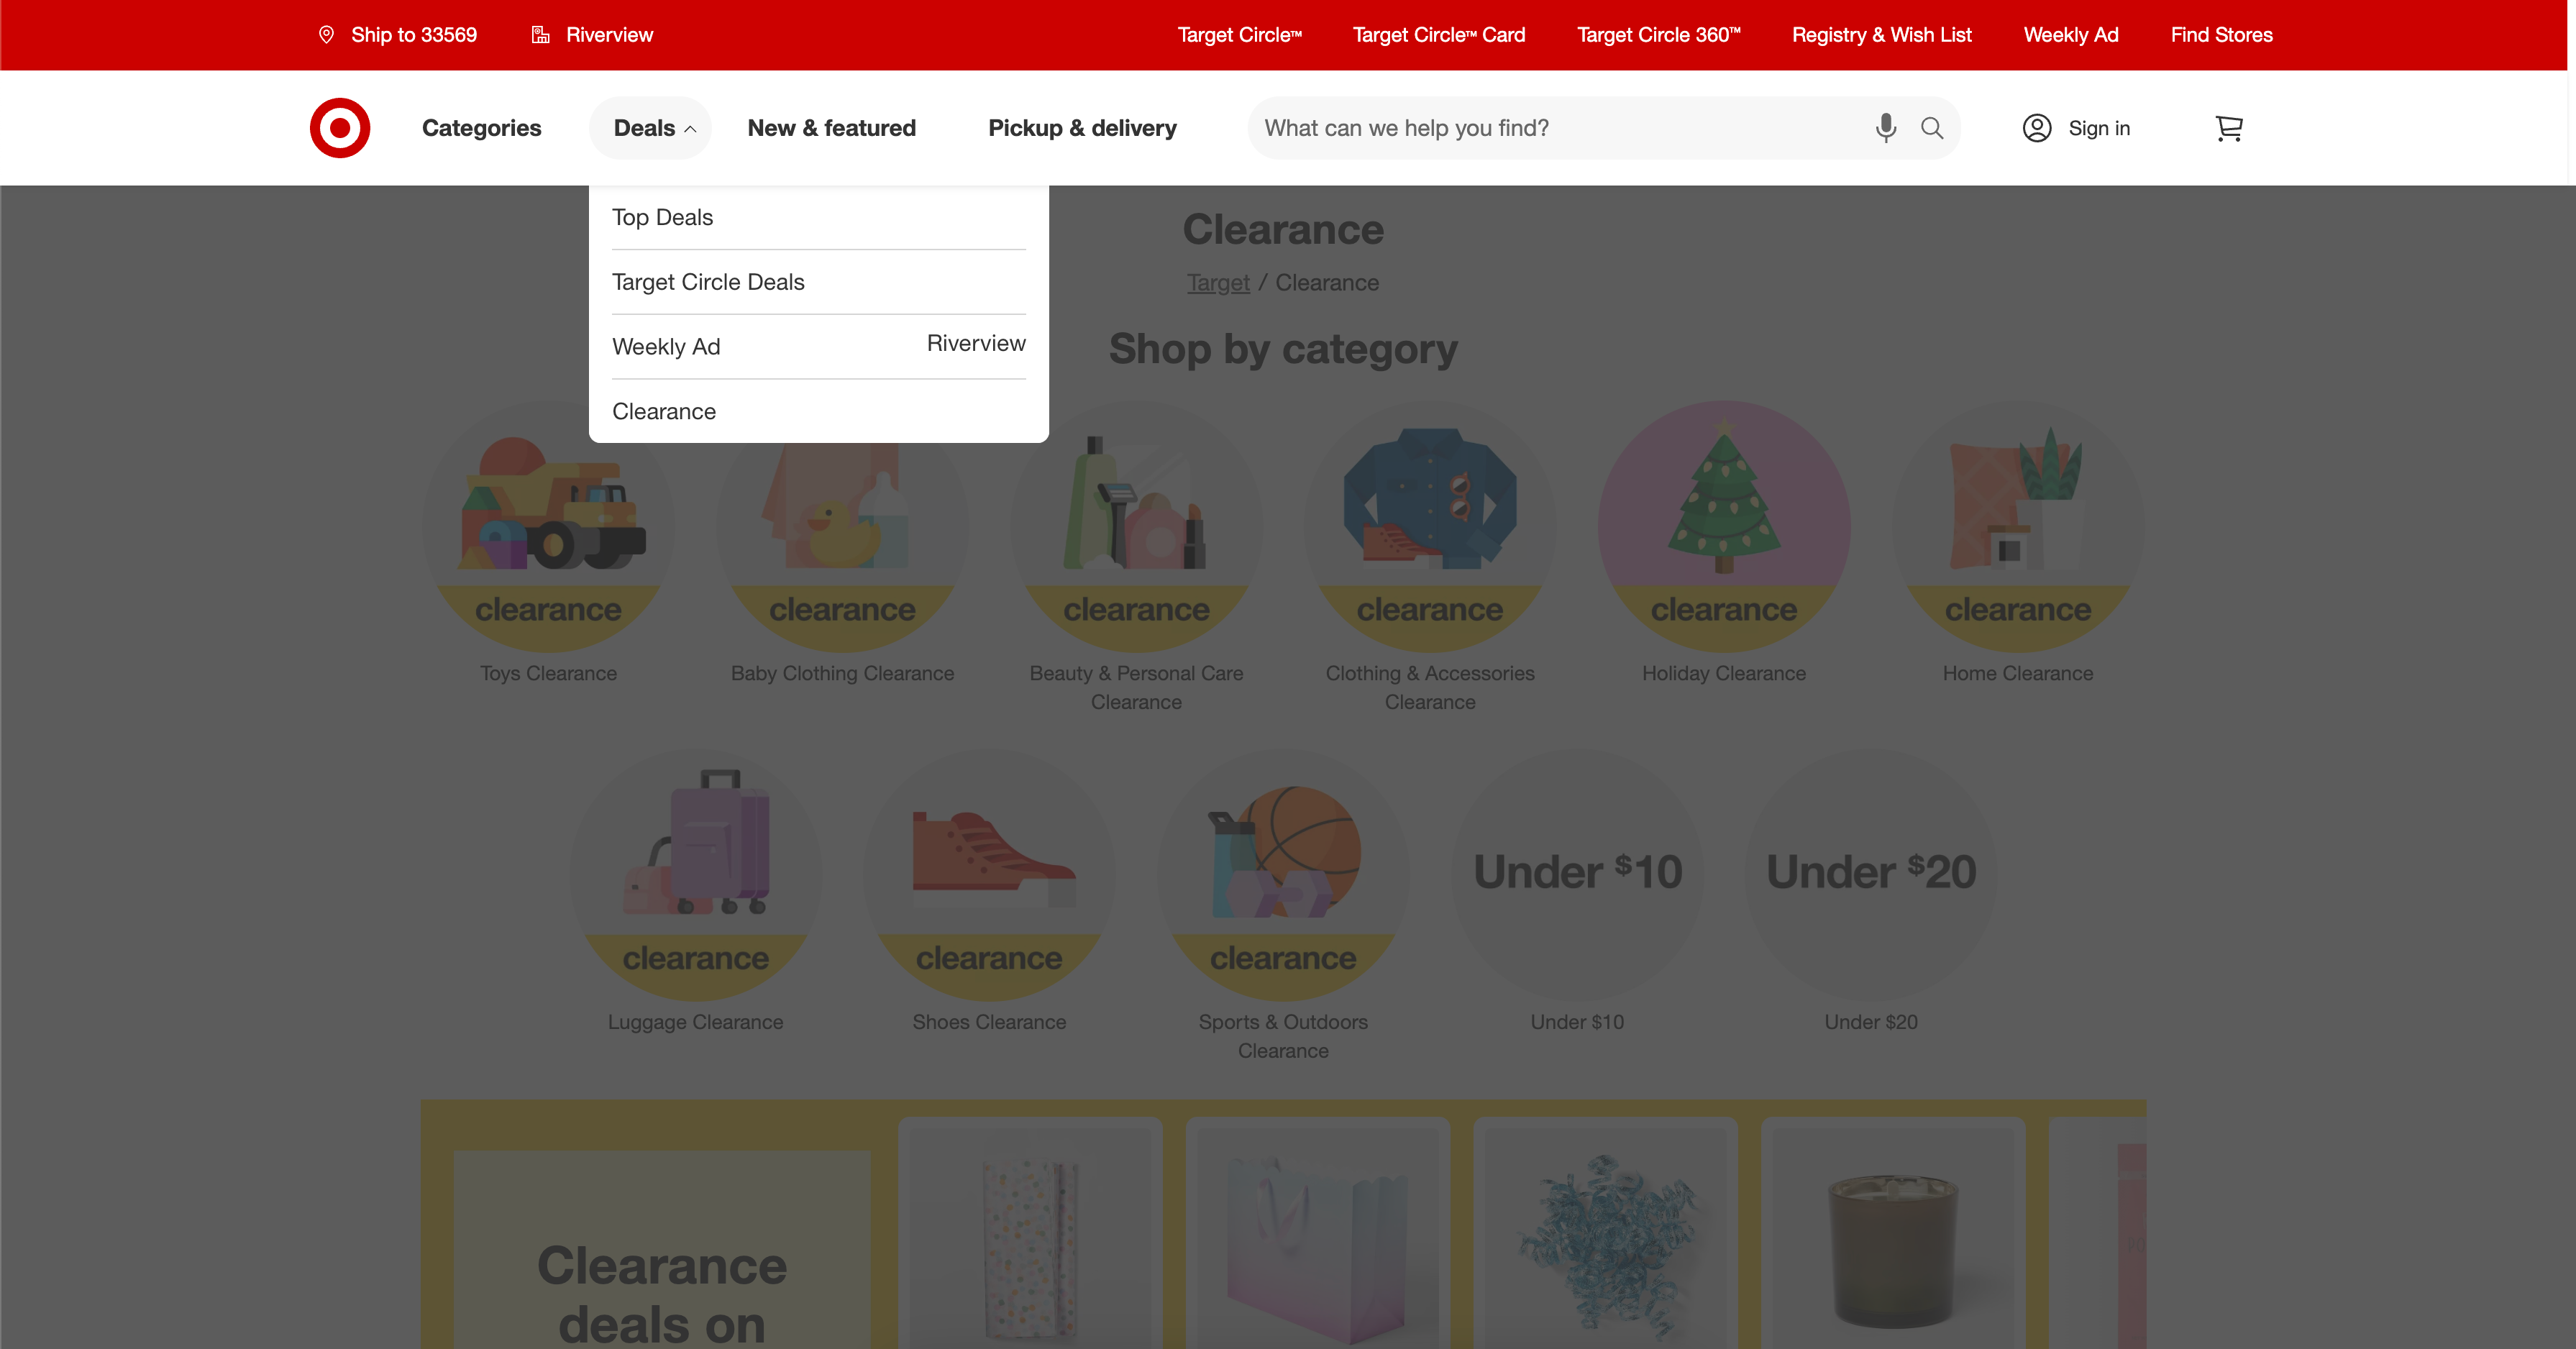button: (306, 7, 485, 58), (308, 7, 483, 57), (592, 94, 713, 160), (521, 10, 669, 57), (522, 10, 668, 55), (2023, 109, 2132, 145)
input: (1248, 96, 1962, 160)
label: (1262, 115, 1550, 140)
